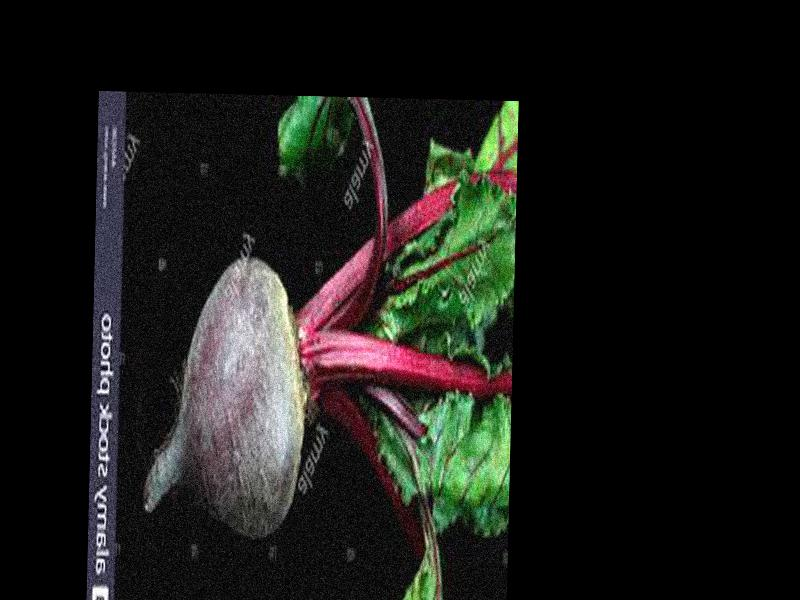Beet: (140, 91, 516, 600)
